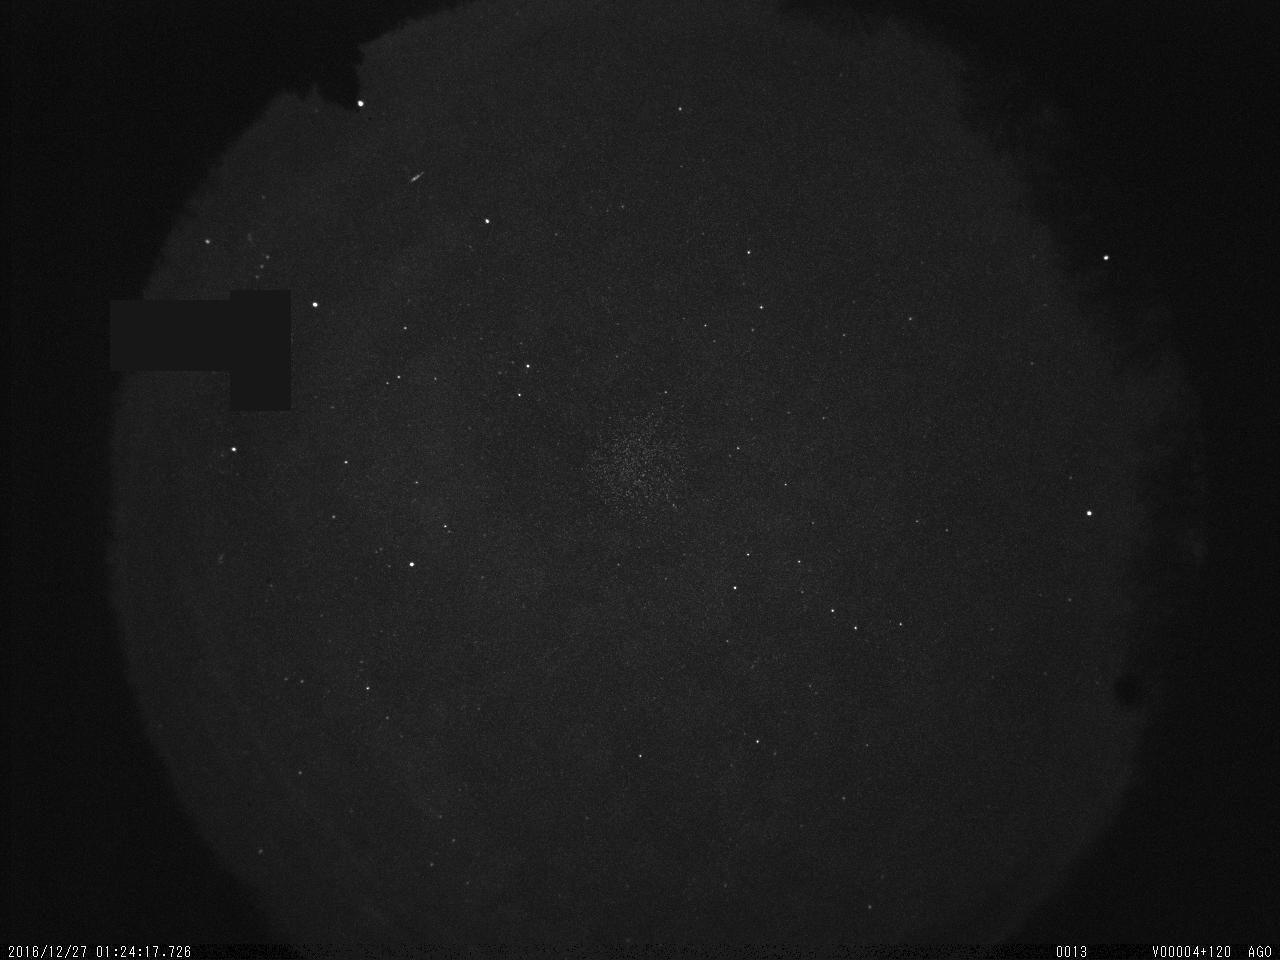Meteor: (402, 168, 430, 188)
